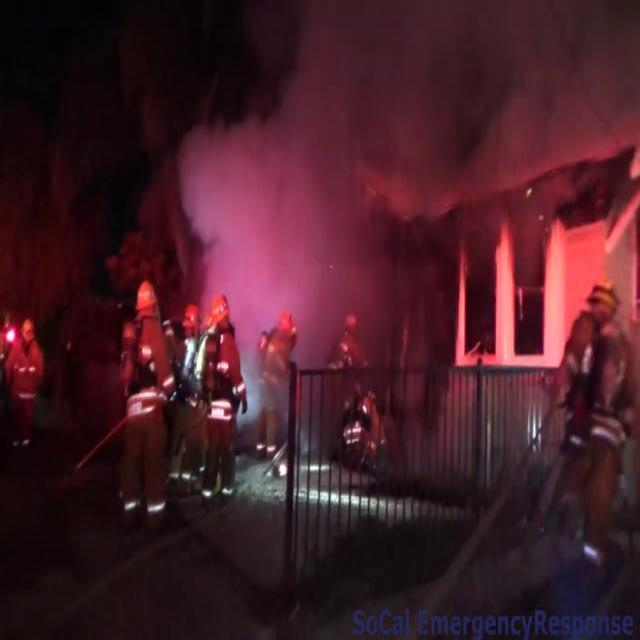Smoke: (178, 0, 632, 285)
